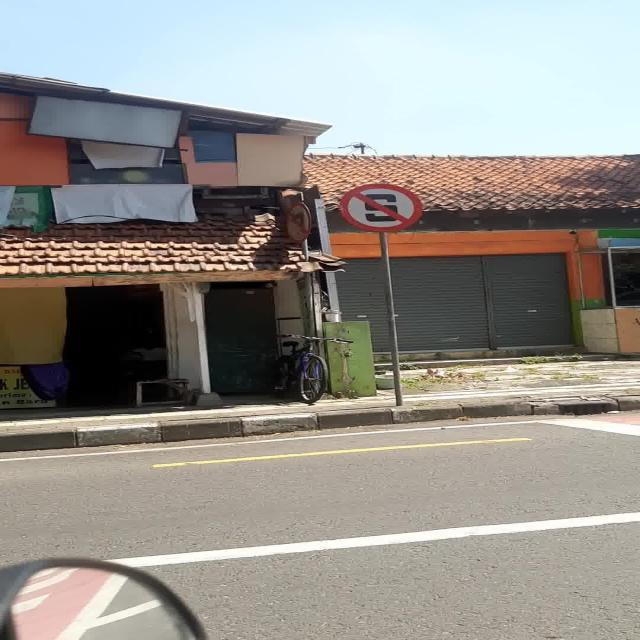Dilarang Berhenti: (340, 184, 422, 232)
